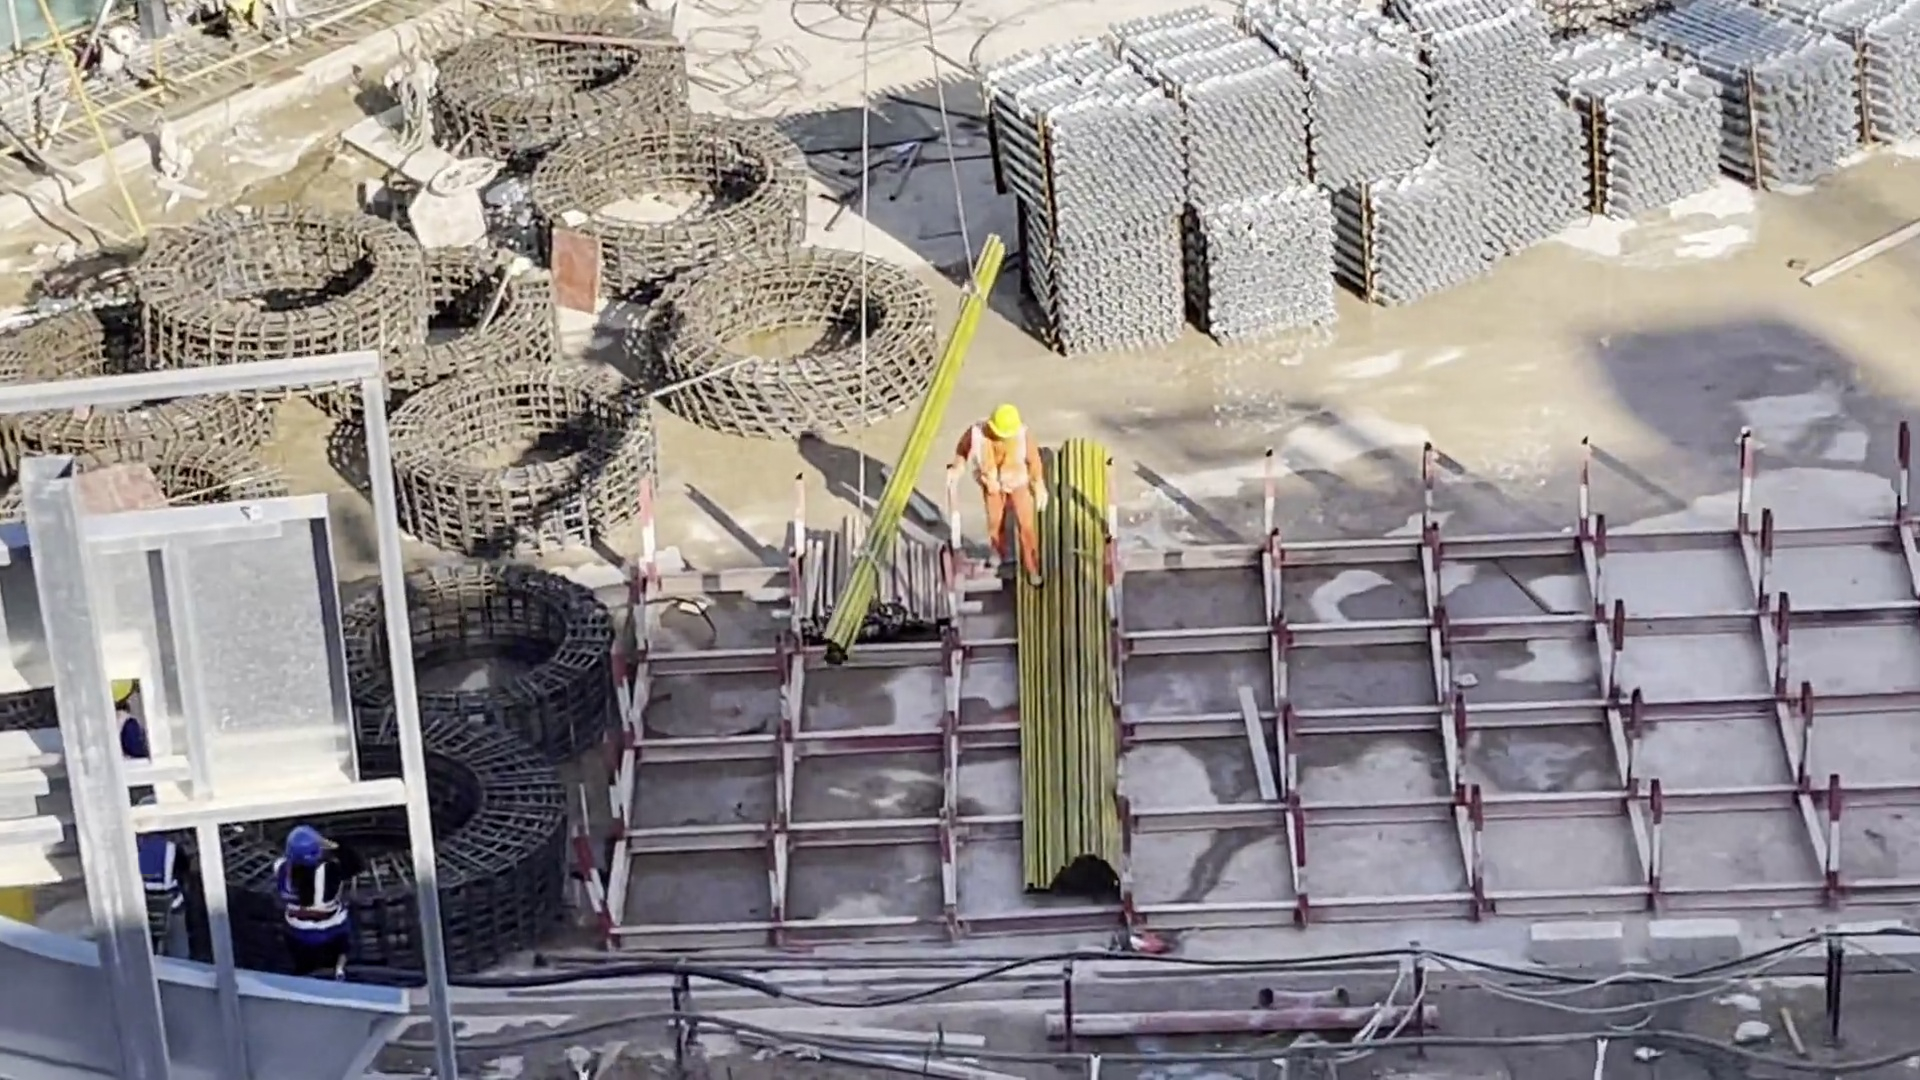helmet: (977, 406, 1021, 441)
person: (947, 399, 1050, 585)
scaffold: (985, 1, 1920, 361)
vest: (966, 428, 1033, 495)
